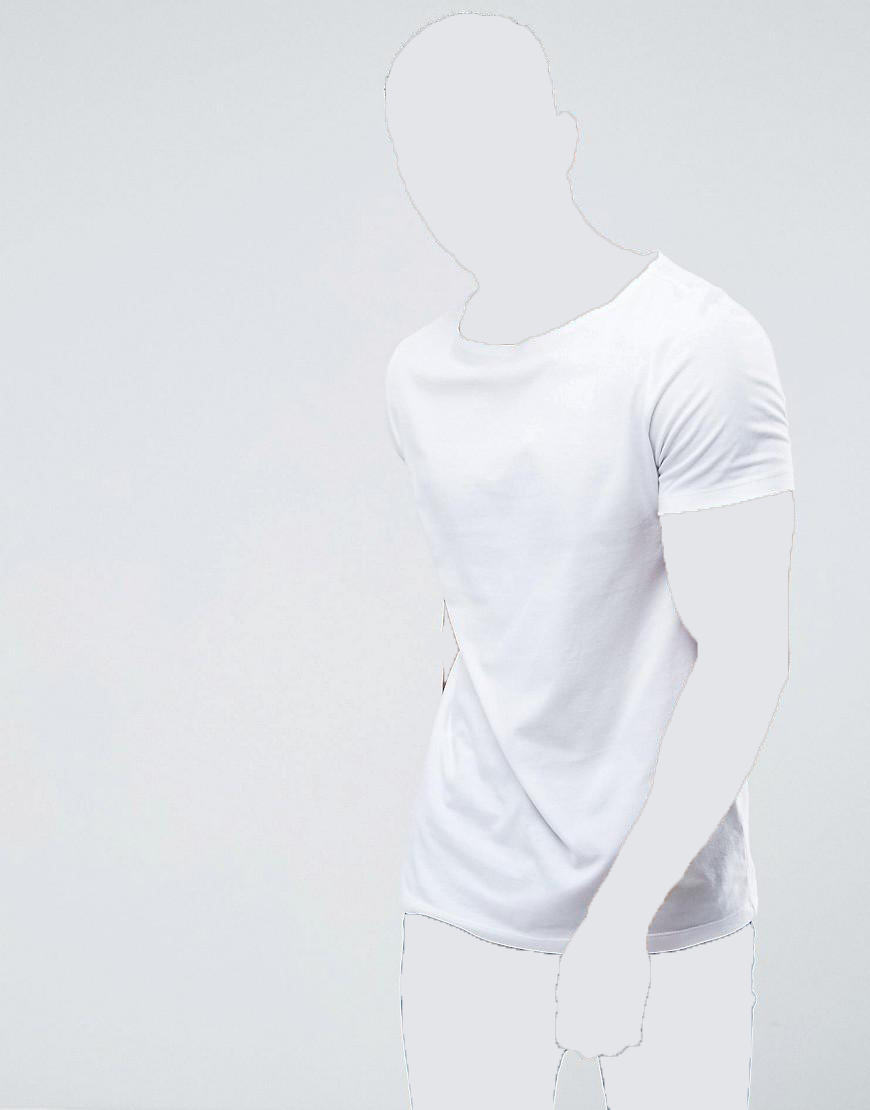teeshirt: (357, 252, 812, 949)
